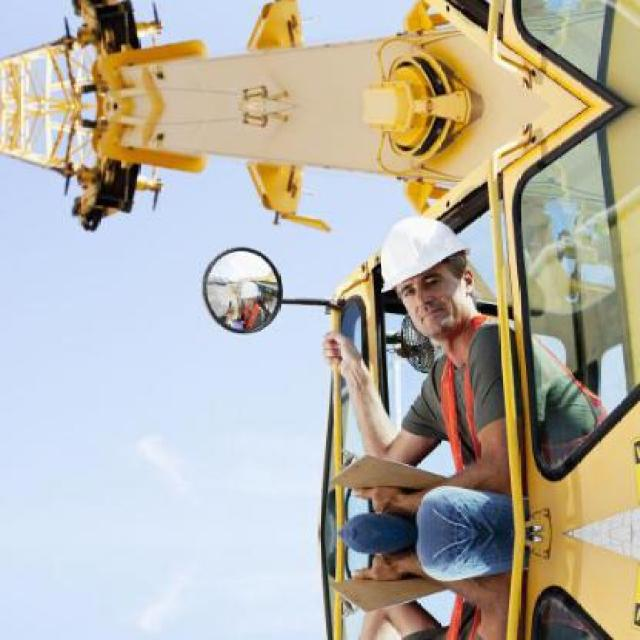helmet: (369, 197, 483, 341)
